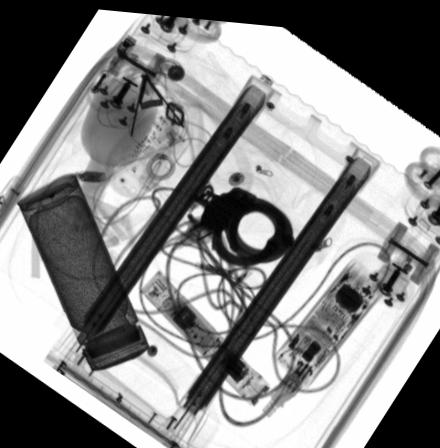Baton: (138, 268, 270, 403)
HandCuffs: (190, 178, 292, 262)
